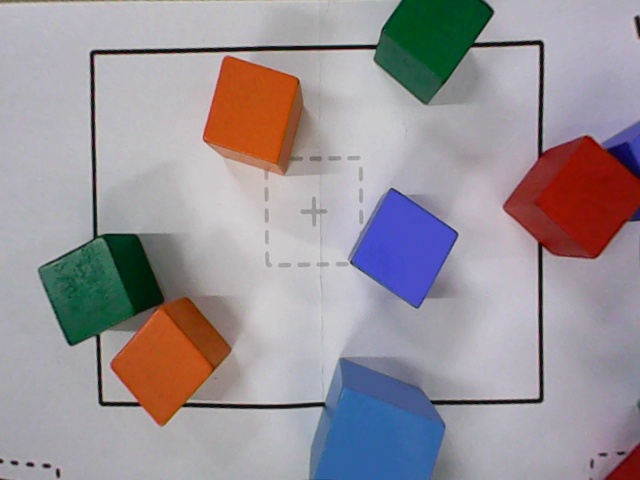upside of big cube: (312, 384, 446, 479)
upside of small cube: (534, 135, 639, 258), (352, 188, 459, 308), (109, 307, 214, 427), (38, 236, 135, 347), (202, 55, 299, 164), (380, 0, 495, 85)
